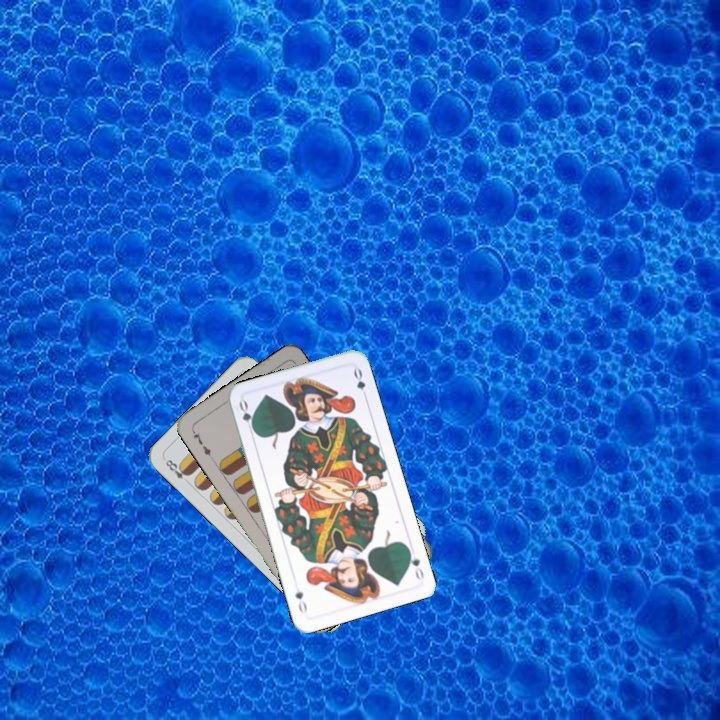E7: (188, 425, 214, 461)
E8: (160, 455, 193, 482)
GO: (235, 396, 259, 437), (404, 544, 426, 583)
